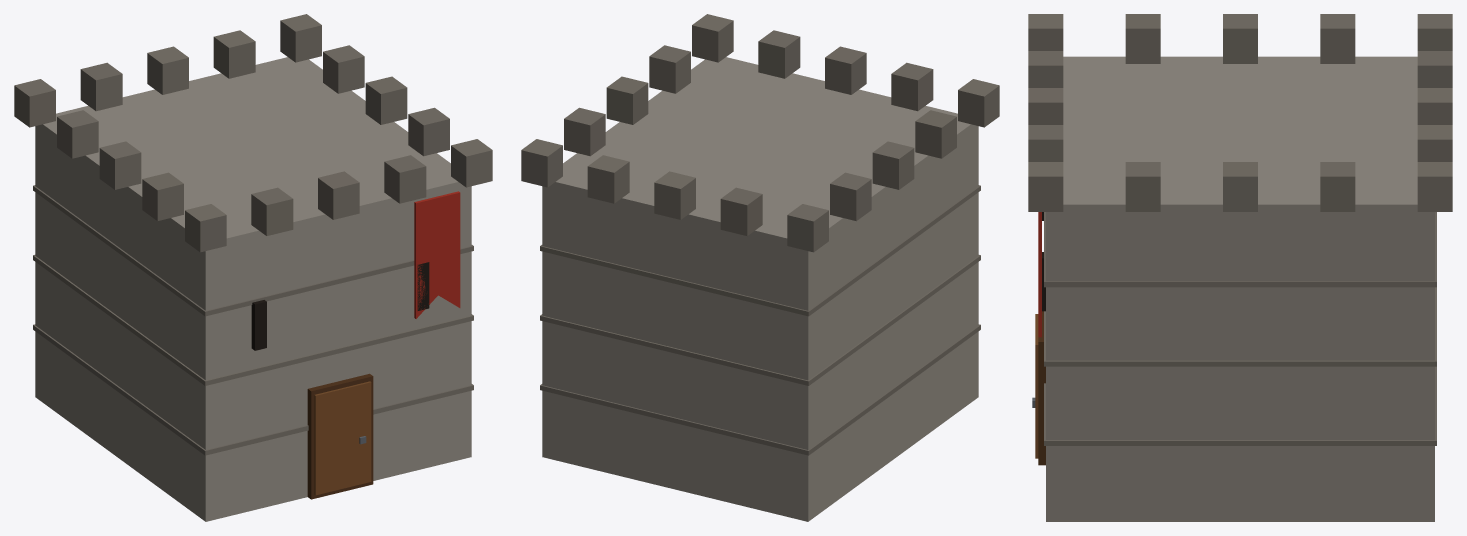
File: barracks_broken.glb
The picture shows the model from 3 angles, left to right: view 1: azimuth 30°, elevation 25°; view 2: azimuth 150°, elevation 25°; view 3: azimuth 270°, elevation 25°; orthographic projection. The views are drawn at different scales.
Parts seen in each view (by area): view 1: barracks_piece3, barracks_piece4, barracks_piece2, barracks_piece10, barracks_piece6, barracks_piece0, barracks_piece5, barracks_piece8, barracks_piece9, barracks_piece7; view 2: barracks_piece1, barracks_piece4, barracks_piece10, barracks_piece3, barracks_piece0, barracks_piece6, barracks_piece9, barracks_piece5, barracks_piece7, barracks_piece8; view 3: barracks_piece6, barracks_piece4, barracks_piece1, barracks_piece8, barracks_piece10, barracks_piece5, barracks_piece2, barracks_piece0, barracks_piece3.
Part boxes in pixels (<box>): barracks_piece3: <box>81,213,362,521</box>; barracks_piece4: <box>14,14,399,188</box>; barracks_piece2: <box>79,243,471,499</box>; barracks_piece10: <box>55,114,301,369</box>; barracks_piece6: <box>317,109,492,404</box>; barracks_piece0: <box>37,155,262,428</box>; barracks_piece5: <box>241,171,401,248</box>; barracks_piece8: <box>336,82,435,152</box>; barracks_piece9: <box>33,204,56,412</box>; barracks_piece7: <box>33,132,52,207</box>; barracks_piece1: <box>540,258,791,503</box>; barracks_piece4: <box>521,79,848,267</box>; barracks_piece10: <box>829,62,992,377</box>; barracks_piece3: <box>854,79,999,486</box>; barracks_piece0: <box>810,118,887,505</box>; barracks_piece6: <box>649,14,810,116</box>; barracks_piece9: <box>732,327,829,521</box>; barracks_piece5: <box>804,46,882,140</box>; barracks_piece7: <box>773,251,825,370</box>; barracks_piece8: <box>540,55,727,268</box>; barracks_piece6: <box>1028,125,1279,521</box>; barracks_piece4: <box>1111,14,1452,276</box>; barracks_piece1: <box>1101,212,1436,521</box>; barracks_piece8: <box>1157,162,1436,406</box>; barracks_piece10: <box>1028,14,1367,110</box>; barracks_piece5: <box>1028,88,1187,148</box>; barracks_piece2: <box>1032,217,1083,521</box>; barracks_piece0: <box>1119,76,1300,110</box>; barracks_piece3: <box>1028,14,1069,326</box>.
Size of the model in its own units: 1.98 by 2 by 2.18.
